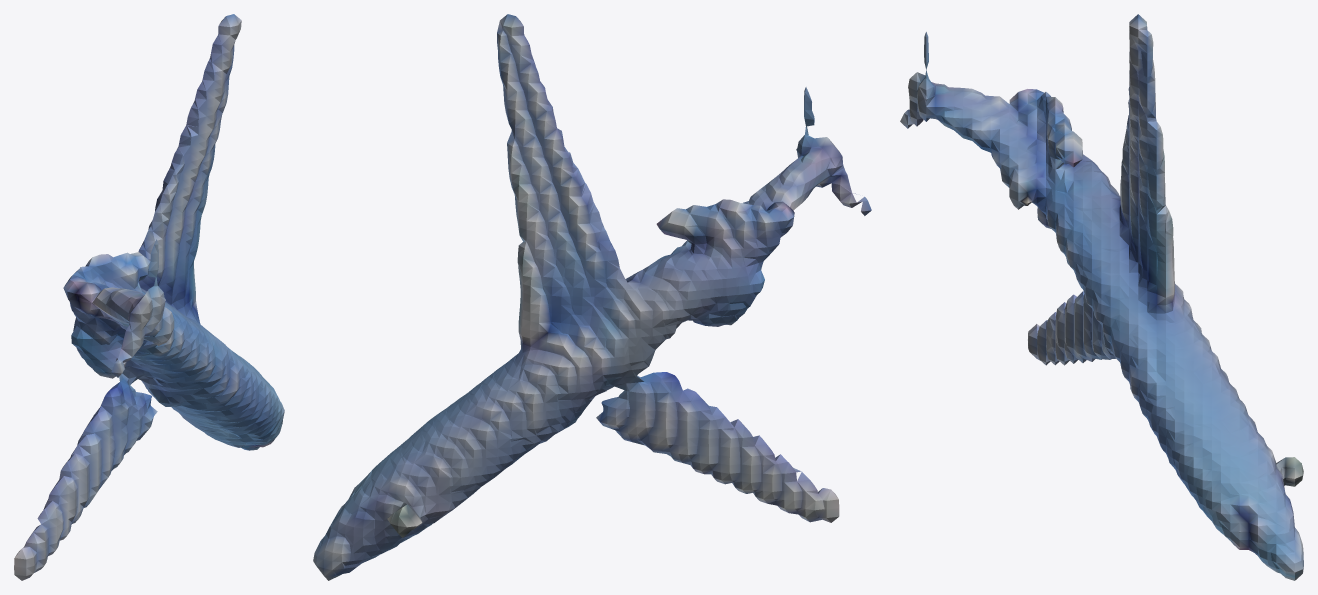
File: 000004_aircraft_jet_airplane_10240_128.glb
3 renders of one model, left to right at view 1: azimuth 30°, elevation 25°; view 2: azimuth 150°, elevation 25°; view 3: azimuth 270°, elevation 25°, orthographic. The views are drawn at different scales.
Visible parts, largest first — view 1: world; view 2: world; view 3: world.
Boxes of the visible parts, bbox=[...] form: world: bbox=[14, 14, 284, 580]; world: bbox=[313, 14, 871, 580]; world: bbox=[900, 14, 1303, 580].
Bounding box in the file's own units: 0.6557 × 0.8474 × 0.6007.
